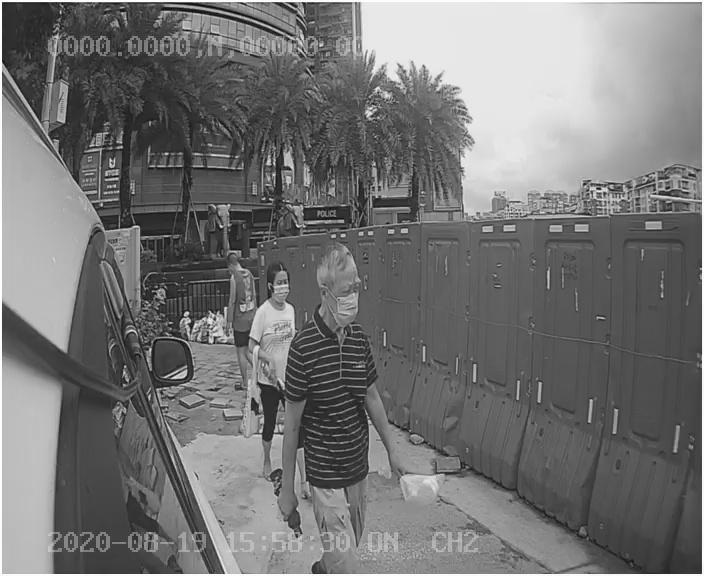person: (264, 236, 423, 531)
